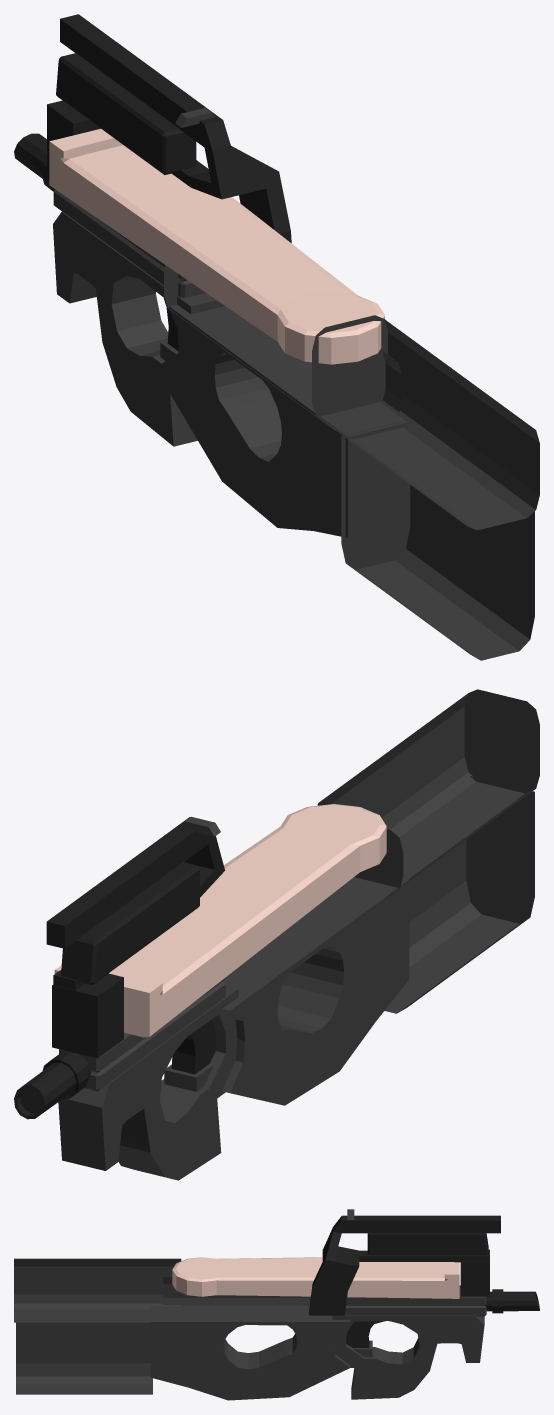
File: SubmachineGun_03.fbx
The picture shows the model from 3 angles, top to bottom: view 1: azimuth 30°, elevation 25°; view 2: azimuth 150°, elevation 25°; view 3: azimuth 270°, elevation 25°; orthographic projection. The views are drawn at different scales.
Visible parts, largest first — view 1: SMG_03; view 2: SMG_03; view 3: SMG_03.
Part boxes in pixels (left/top/right/bottom): SMG_03: left=14, top=14, right=539, bottom=660; SMG_03: left=14, top=689, right=539, bottom=1180; SMG_03: left=14, top=1209, right=539, bottom=1400.
Bounding box in the file's own units: 62.83 × 183 × 481.
